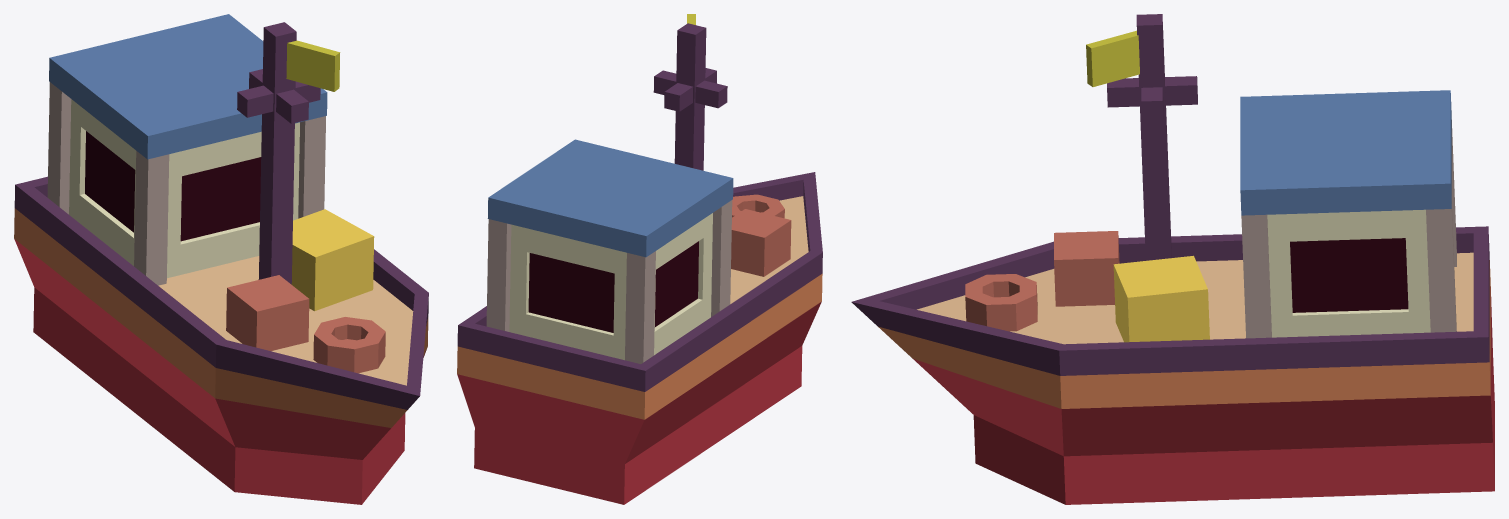
File: boat.glb
3 renders of one model, left to right at view 1: azimuth 30°, elevation 25°; view 2: azimuth 150°, elevation 25°; view 3: azimuth 270°, elevation 25°, orthographic. The views are drawn at different scales.
Visible parts, largest first — view 1: Boat; view 2: Boat; view 3: Boat.
Boxes of the visible parts, x1,y1,x2,y2 form: Boat: [14, 14, 428, 504]; Boat: [457, 14, 822, 504]; Boat: [851, 14, 1494, 504].
Size of the model in its own units: 1.22 by 2.28 by 3.
